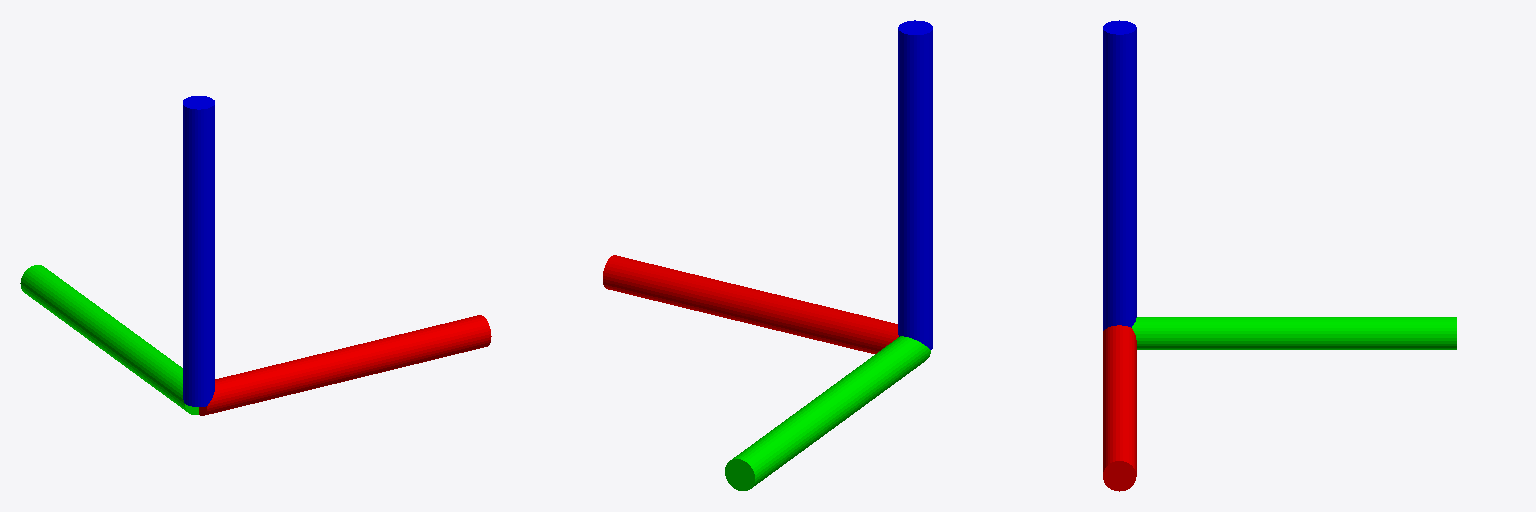
The robot description file, URDF, robot "frame_vis":
<?xml version="1.0" ?>
<robot name="frame_vis">

    <!-- colours -->
    <material name="blue">
        <color rgba="0 0 0.925 1"/>
    </material>
    <material name="green">
        <color rgba="0 0.925 0 1"/>
    </material>
    <material name="red">
        <color rgba="0.925 0 0 1"/>
    </material>

    <!-- links -->
    <link name="base_link">
        <inertial>
            <origin rpy="0 0 0" xyz="0 0 0"/>
            <mass value="0"/>
            <inertia ixx = "0" ixy = "0" ixz = "0"
                    iyx = "0" iyy = "0" iyz = "0"
                    izx = "0" izy = "0" izz = "0" />
        </inertial>
    </link>

    <link name="x_axis">
        <inertial>
            <origin rpy="0 0 0" xyz="0 0 0"/>
            <mass value="0"/>
            <inertia ixx = "0" ixy = "0" ixz = "0"
                    iyx = "0" iyy = "0" iyz = "0"
                    izx = "0" izy = "0" izz = "0" />
        </inertial>
        <visual>
            <geometry>
                <cylinder length="1" radius="0.05"/>
            </geometry>
            <material name="red"/>
        </visual>
    </link>

    <link name="y_axis">
        <inertial>
            <origin rpy="0 0 0" xyz="0 0 0"/>
            <mass value="0"/>
            <inertia ixx = "0" ixy = "0" ixz = "0"
                    iyx = "0" iyy = "0" iyz = "0"
                    izx = "0" izy = "0" izz = "0" />
        </inertial>
        <visual>
            <geometry>
                <cylinder length="1" radius="0.05"/>
            </geometry>
            <material name="green"/>
        </visual>
    </link>

    <link name="z_axis">
        <inertial>
            <origin rpy="0 1.5708 0" xyz="0 0 0"/>
            <mass value="0"/>
            <inertia ixx = "0" ixy = "0" ixz = "0"
                    iyx = "0" iyy = "0" iyz = "0"
                    izx = "0" izy = "0" izz = "0" />
        </inertial>
        <visual>
            <geometry>
                <cylinder length="1" radius="0.05"/>
            </geometry>
            <material name="blue"/>
        </visual>
    </link>

    <!-- joints -->
    <joint name="attach_x_to_base" type="fixed">
        <origin rpy="0 1.5708 0" xyz="0.5 0 0"/>
        <parent link="base_link"/>
        <child link="x_axis"/>
    </joint>

    <joint name="attach_y_to_base" type="fixed">
        <origin rpy="0 1.5708 1.5708" xyz="0 0.5 0"/>
        <parent link="base_link"/>
        <child link="y_axis"/>
    </joint>

    <joint name="attach_z_to_base" type="fixed">
        <origin rpy="0 0 0" xyz="0 0 0.5"/>
        <parent link="base_link"/>
        <child link="z_axis"/>
    </joint>

</robot>

--- Facts derived from the render (not from the file) ---
Views: 3 orthographic renders of the robot side by side, from view 1: azimuth 30°, elevation 25°; view 2: azimuth 150°, elevation 25°; view 3: azimuth 270°, elevation 25°.
Model frame_vis with 4 links and 3 joints (3 fixed), rooted at base_link, posed all joints at 0.
Links seen in each view (by area): view 1: z_axis, x_axis, y_axis; view 2: z_axis, x_axis, y_axis; view 3: y_axis, z_axis, x_axis.
Link boxes in pixels (x1,y1,x2,y2): z_axis: (183, 96, 214, 406); x_axis: (199, 315, 491, 415); y_axis: (20, 265, 198, 414); z_axis: (898, 20, 932, 349); x_axis: (603, 255, 898, 353); y_axis: (725, 336, 930, 490); y_axis: (1132, 317, 1456, 349); z_axis: (1103, 20, 1136, 330); x_axis: (1103, 325, 1136, 491).
Size in the robot's own frame: 1.05 by 1.05 by 1.05 metres.
Geometry: primitives only (box / cylinder / sphere), no mesh files.